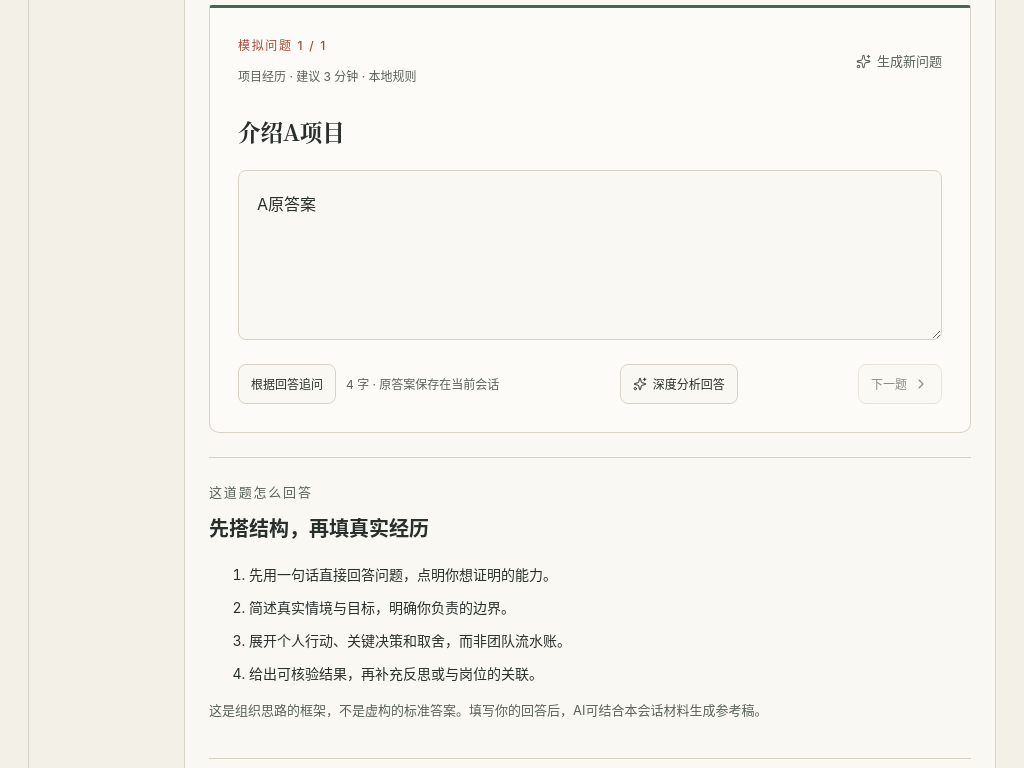
Test case: InterviewStudio › 优化参考稿与原答案并排保存，不改写用户答案
(page scrolled)
Click the button "深度分析回答" at (679, 384), box [620,364,738,404]
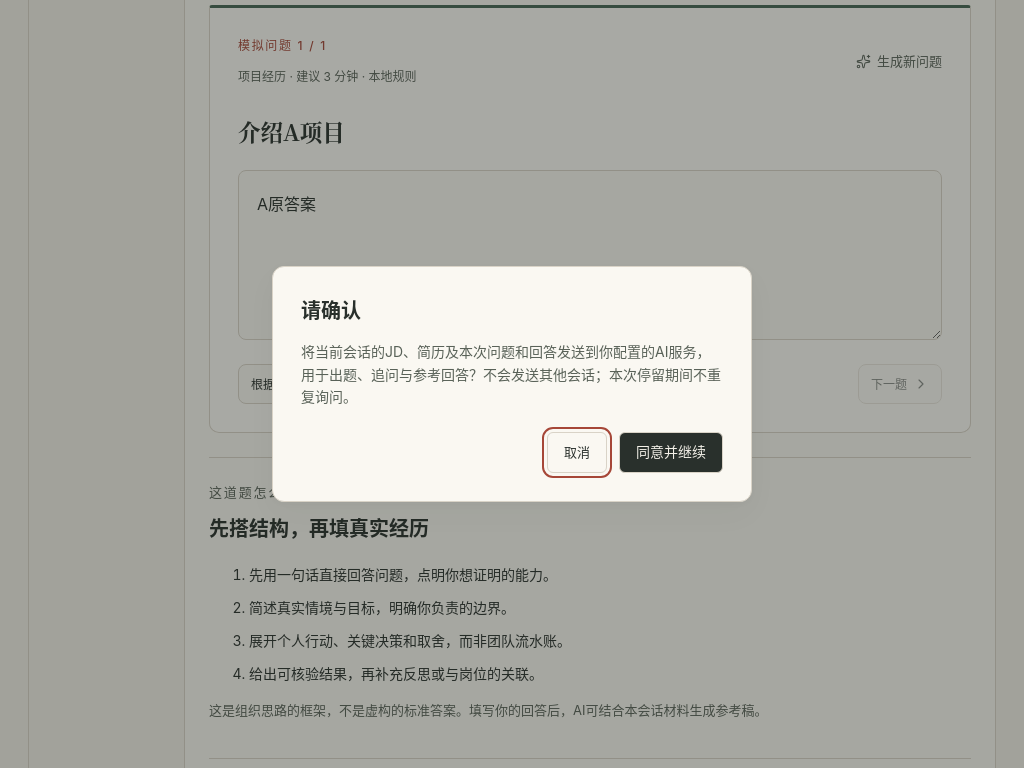
Click the button "同意并继续" at (671, 453), box [619,432,723,473]
(page scrolled)
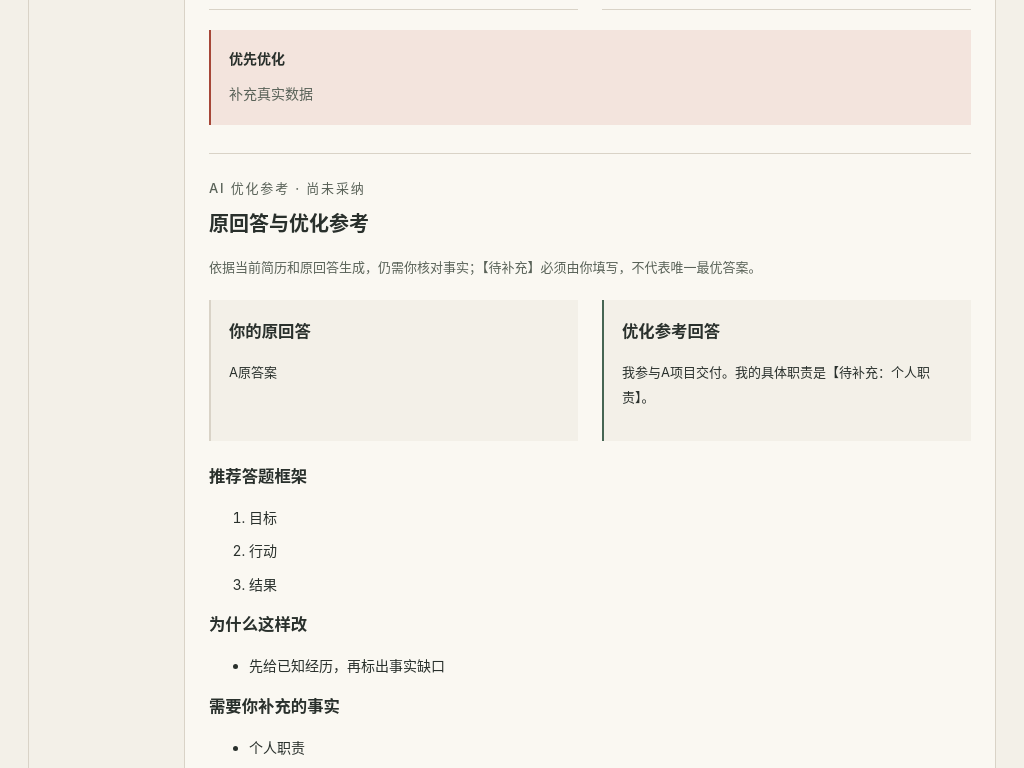
Now the heading "优化参考回答" is shown, box [622,321,720,341]
